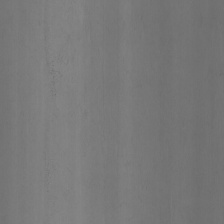inclusion: (44, 48, 62, 101)
